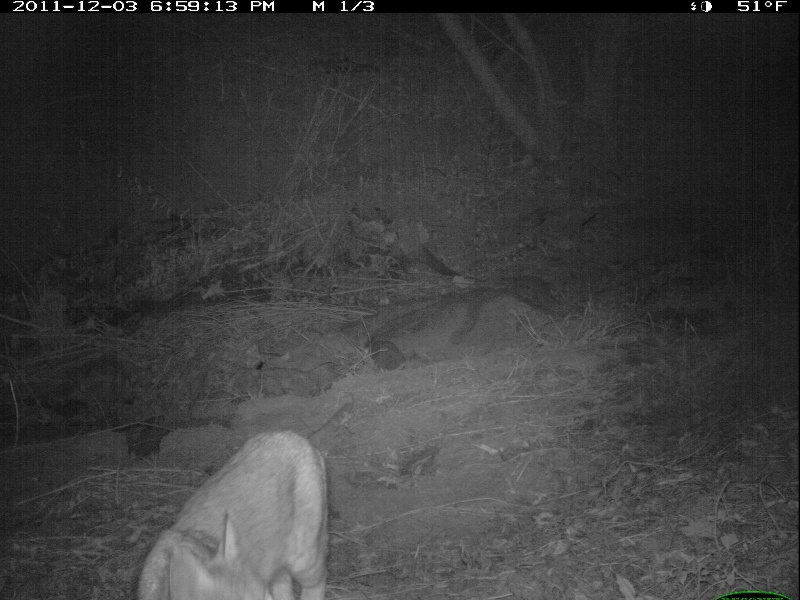cat: (129, 422, 338, 600)
